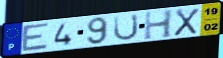4: (53, 21, 75, 46)
9: (86, 16, 111, 46)
E: (20, 21, 50, 53)
H: (143, 9, 174, 41)
U: (112, 13, 140, 42)
X: (173, 7, 201, 37)
